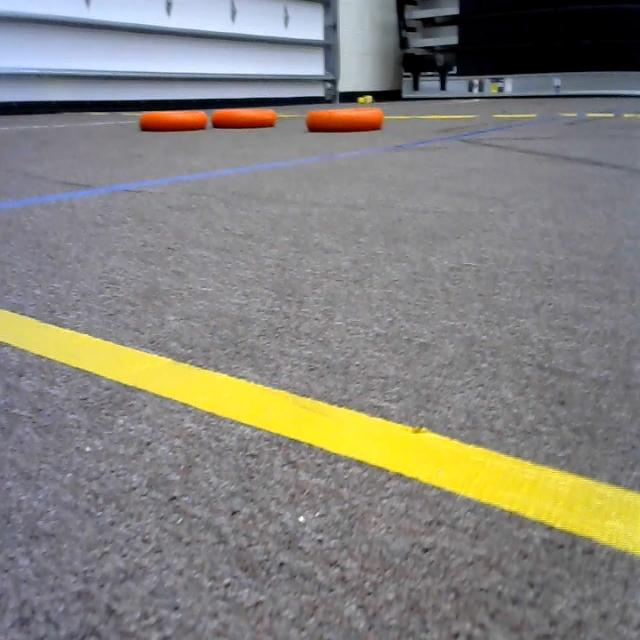note: (305, 94, 385, 136), (135, 102, 213, 137), (211, 102, 281, 133)
